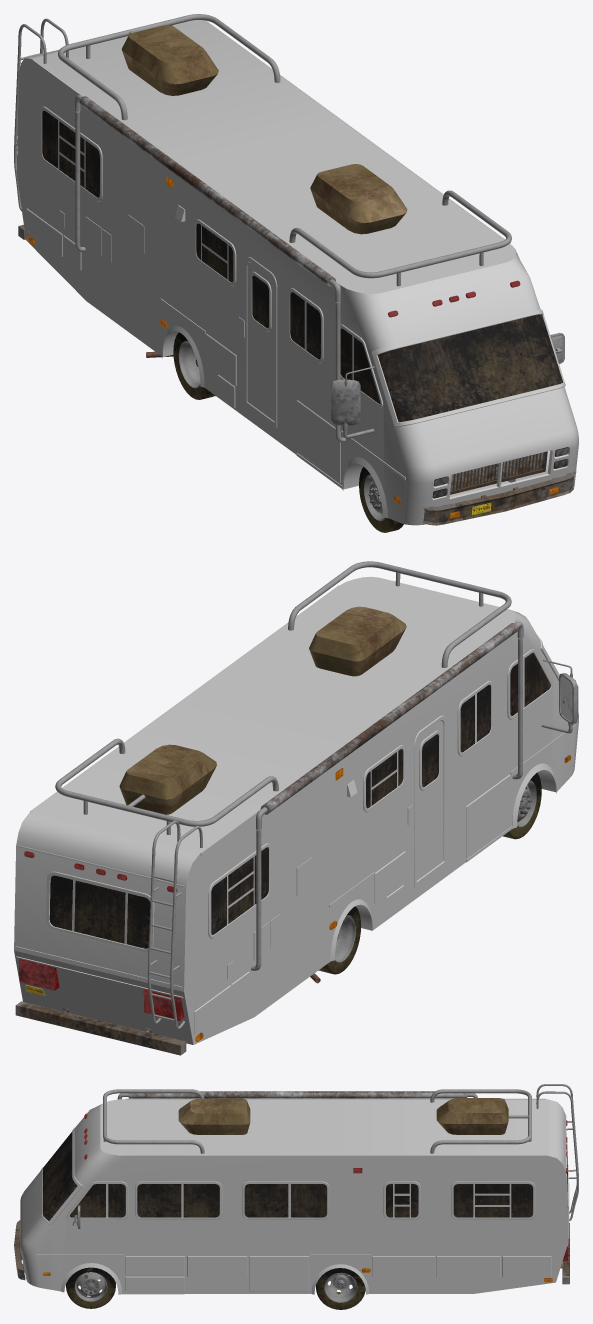
3 renders of one model, top to bottom at view 1: azimuth 30°, elevation 25°; view 2: azimuth 150°, elevation 25°; view 3: azimuth 270°, elevation 25°, orthographic. The views are drawn at different scales.
Parts seen in each view (by area): view 1: MainBody, Windows, SidePannelDetail, RoofBoxes, ChromePipes, Bumpers+Radiator, Tarp, FrontWheels, Mirrors, RearLights; view 2: MainBody, SidePannelDetail, Windows, RoofBoxes, ChromePipes, Tarp, Bumpers+Radiator, FrontWheels, RearLights, Mirrors; view 3: MainBody, SidePannelDetail, Windows, RoofBoxes, ChromePipes, FrontWheels, Tarp, Bumpers+Radiator, RearLights.
Part boxes in pixels (bbox=[...]): MainBody: bbox=[16, 20, 578, 525]; Windows: bbox=[42, 110, 562, 422]; SidePannelDetail: bbox=[26, 20, 565, 517]; RoofBoxes: bbox=[121, 25, 407, 234]; ChromePipes: bbox=[14, 14, 511, 442]; Bumpers+Radiator: bbox=[18, 224, 576, 525]; Tarp: bbox=[79, 96, 335, 286]; FrontWheels: bbox=[173, 332, 403, 532]; Mirrors: bbox=[331, 332, 564, 438]; RearLights: bbox=[27, 176, 568, 518]; MainBody: bbox=[14, 576, 578, 1044]; SidePannelDetail: bbox=[15, 585, 575, 1033]; Windows: bbox=[49, 653, 550, 948]; RoofBoxes: bbox=[119, 606, 406, 814]; ChromePipes: bbox=[55, 561, 523, 1029]; Tarp: bbox=[260, 623, 518, 814]; Bumpers+Radiator: bbox=[15, 1001, 186, 1055]; FrontWheels: bbox=[318, 773, 541, 974]; RearLights: bbox=[19, 755, 571, 1041]; Mirrors: bbox=[541, 659, 578, 733]; MainBody: bbox=[20, 1099, 568, 1293]; SidePannelDetail: bbox=[36, 1098, 569, 1294]; Windows: bbox=[42, 1132, 567, 1220]; RoofBoxes: bbox=[178, 1098, 508, 1134]; ChromePipes: bbox=[103, 1084, 578, 1220]; FrontWheels: bbox=[66, 1267, 365, 1309]; Tarp: bbox=[128, 1091, 467, 1098]; Bumpers+Radiator: bbox=[14, 1220, 569, 1284]; RearLights: bbox=[16, 1113, 568, 1282].
Size of the model in its own units: 2.39 by 2.62 by 7.47.
